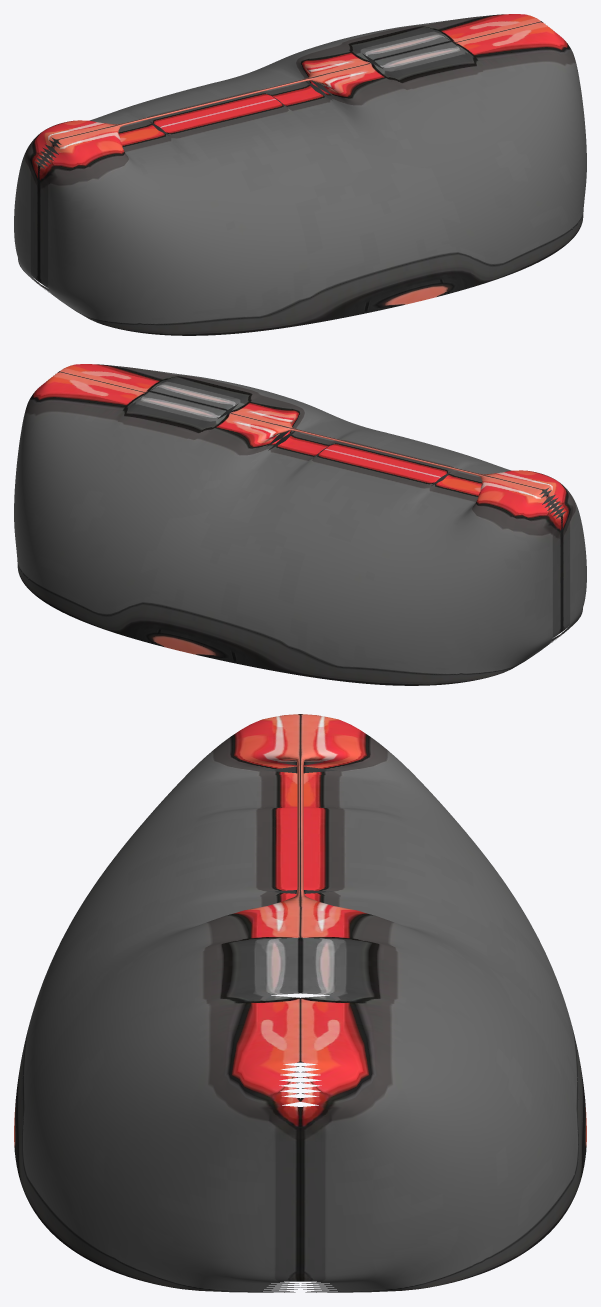
Rendered from side_bulkhead.glb.
3 views of the same model, one above another, from view 1: azimuth 30°, elevation 25°; view 2: azimuth 150°, elevation 25°; view 3: azimuth 270°, elevation 25° (orthographic). The views are drawn at different scales.
Parts seen in each view (by area): view 1: side_bulkhead; view 2: side_bulkhead; view 3: side_bulkhead.
Part boxes in pixels (<box>): side_bulkhead: <box>14,14,586,335</box>; side_bulkhead: <box>14,364,586,685</box>; side_bulkhead: <box>14,714,586,1292</box>.
Bounding box in the file's own units: 0.989 × 0.2853 × 0.6387.
Materials: 1 (1 with a texture image).
